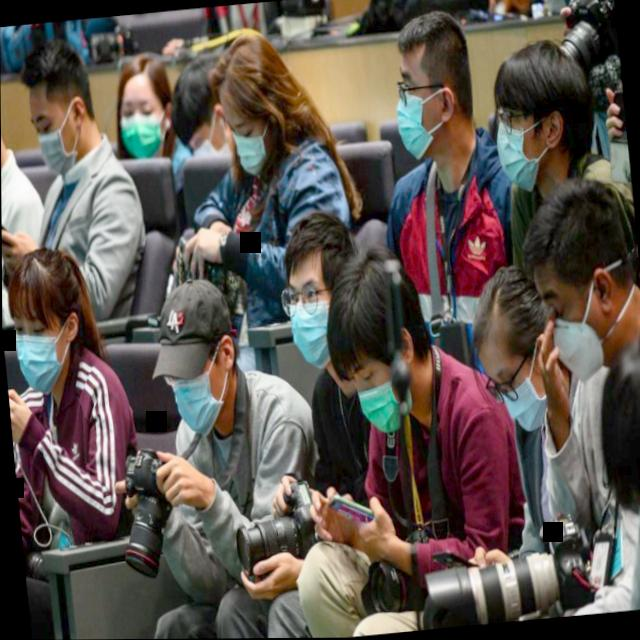Mask: (509, 165, 640, 391), (316, 252, 442, 445), (456, 247, 572, 443), (480, 31, 602, 198), (138, 269, 252, 444), (261, 203, 367, 380), (376, 2, 481, 168), (1, 241, 100, 404), (13, 32, 107, 183), (211, 32, 300, 185), (161, 50, 239, 167), (105, 44, 180, 165), (0, 34, 17, 189)
